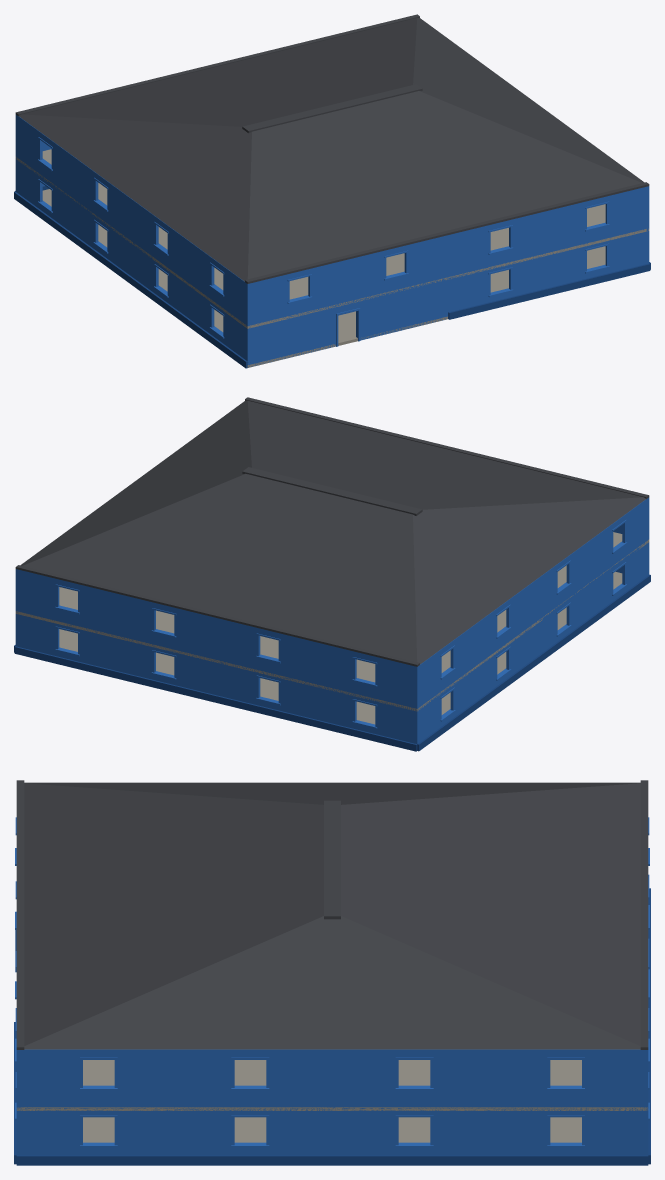
Rendered from house_blue.glb.
3 renders of one model, top to bottom at view 1: azimuth 30°, elevation 25°; view 2: azimuth 150°, elevation 25°; view 3: azimuth 270°, elevation 25°, orthographic. The views are drawn at different scales.
Parts seen in each view (by area): view 1: house_blue; view 2: house_blue; view 3: house_blue.
Boxes of the visible parts, box(x1,y1,x2,y2) form: house_blue: box(14, 14, 650, 368); house_blue: box(14, 397, 650, 751); house_blue: box(14, 780, 650, 1165).
Bounding box in the file's own units: 30.26 × 9.04 × 30.26.
